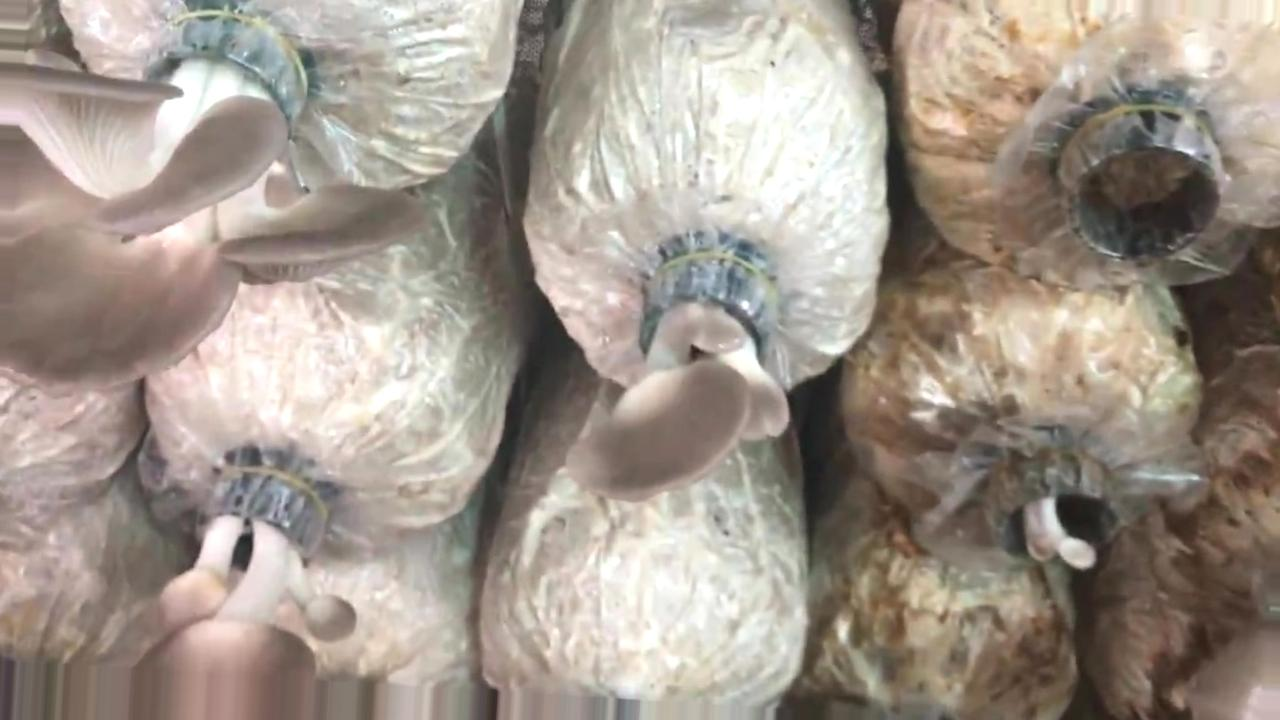nam: (1, 14, 432, 388), (567, 245, 792, 506), (133, 464, 357, 720), (989, 466, 1128, 570)
